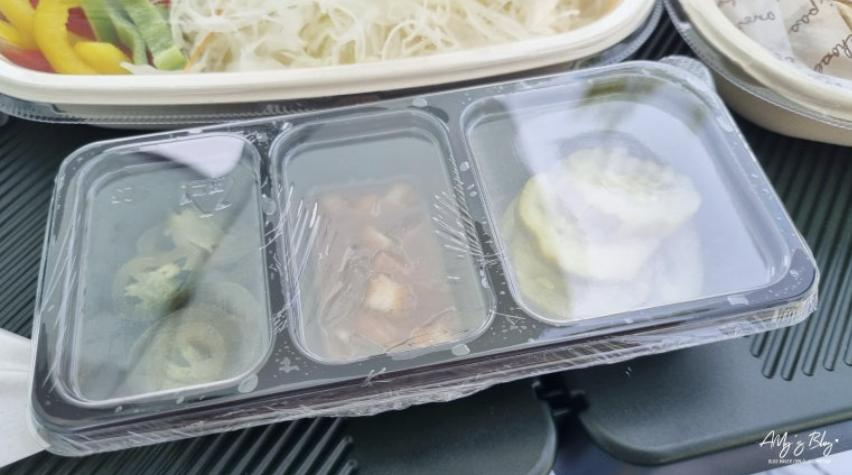Lunch Box: (28, 56, 818, 455), (0, 0, 663, 128), (664, 0, 851, 145)
